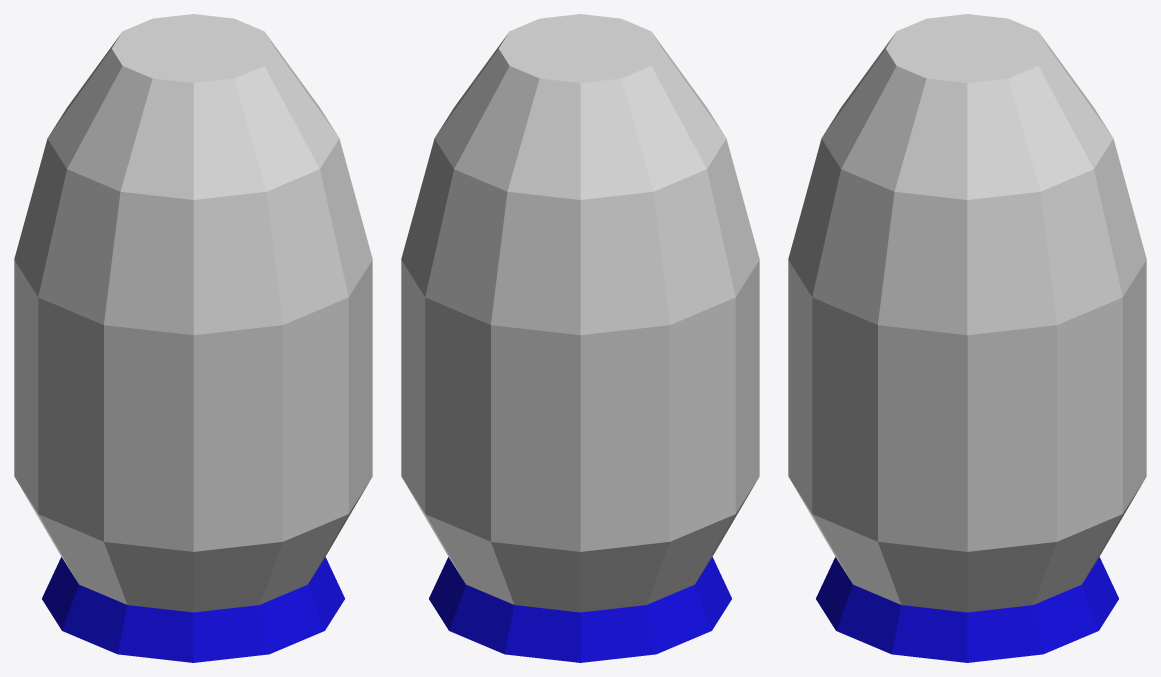
Rendered from Head00.gltf.
3 views of the same model, side by side, from view 1: azimuth 30°, elevation 25°; view 2: azimuth 150°, elevation 25°; view 3: azimuth 270°, elevation 25° (orthographic).
Parts seen in each view (by area): view 1: Head00; view 2: Head00; view 3: Head00.
Boxes of the visible parts, x1=… form: Head00: x1=14, y1=14, x2=372, y2=662; Head00: x1=401, y1=14, x2=759, y2=662; Head00: x1=788, y1=14, x2=1146, y2=662.
Bounding box in the file's own units: 0.5907 × 1 × 0.5907.
